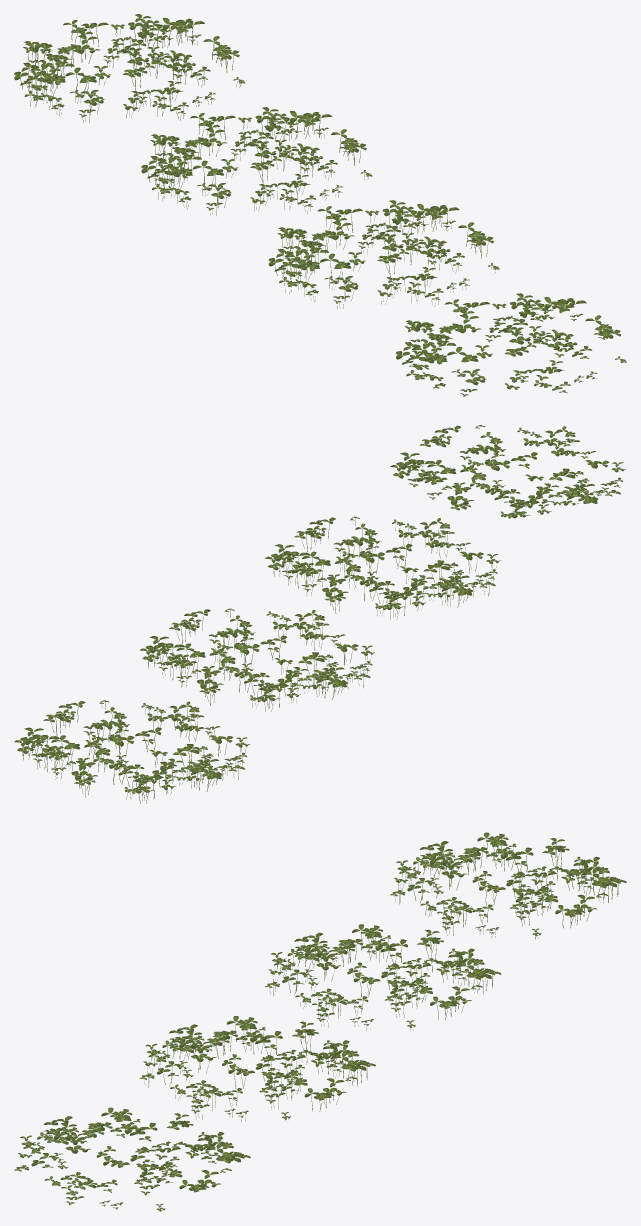
Rendered from clover.glb.
3 renders of one model, top to bottom at view 1: azimuth 30°, elevation 25°; view 2: azimuth 150°, elevation 25°; view 3: azimuth 330°, elevation 25°, orthographic.
Visible parts, largest first — view 1: D01, D01_01, D01_02, D01_03; view 2: D01, D01_01, D01_02, D01_03; view 3: D01, D01_01, D01_02, D01_03.
Part boxes in pixels (x1=…): D01: x1=14, y1=14, x2=244, y2=122; D01_01: x1=141, y1=107, x2=372, y2=215; D01_02: x1=268, y1=200, x2=499, y2=308; D01_03: x1=396, y1=293, x2=626, y2=396; D01: x1=14, y1=700, x2=250, y2=803; D01_01: x1=140, y1=608, x2=374, y2=711; D01_02: x1=265, y1=516, x2=500, y2=619; D01_03: x1=390, y1=425, x2=626, y2=518; D01: x1=390, y1=832, x2=626, y2=939; D01_01: x1=265, y1=924, x2=501, y2=1030; D01_02: x1=139, y1=1016, x2=375, y2=1121; D01_03: x1=14, y1=1107, x2=250, y2=1211.
Bounding box in the file's own units: 0.4621 × 0.0563 × 1.95.
1 material, 1 textured.
